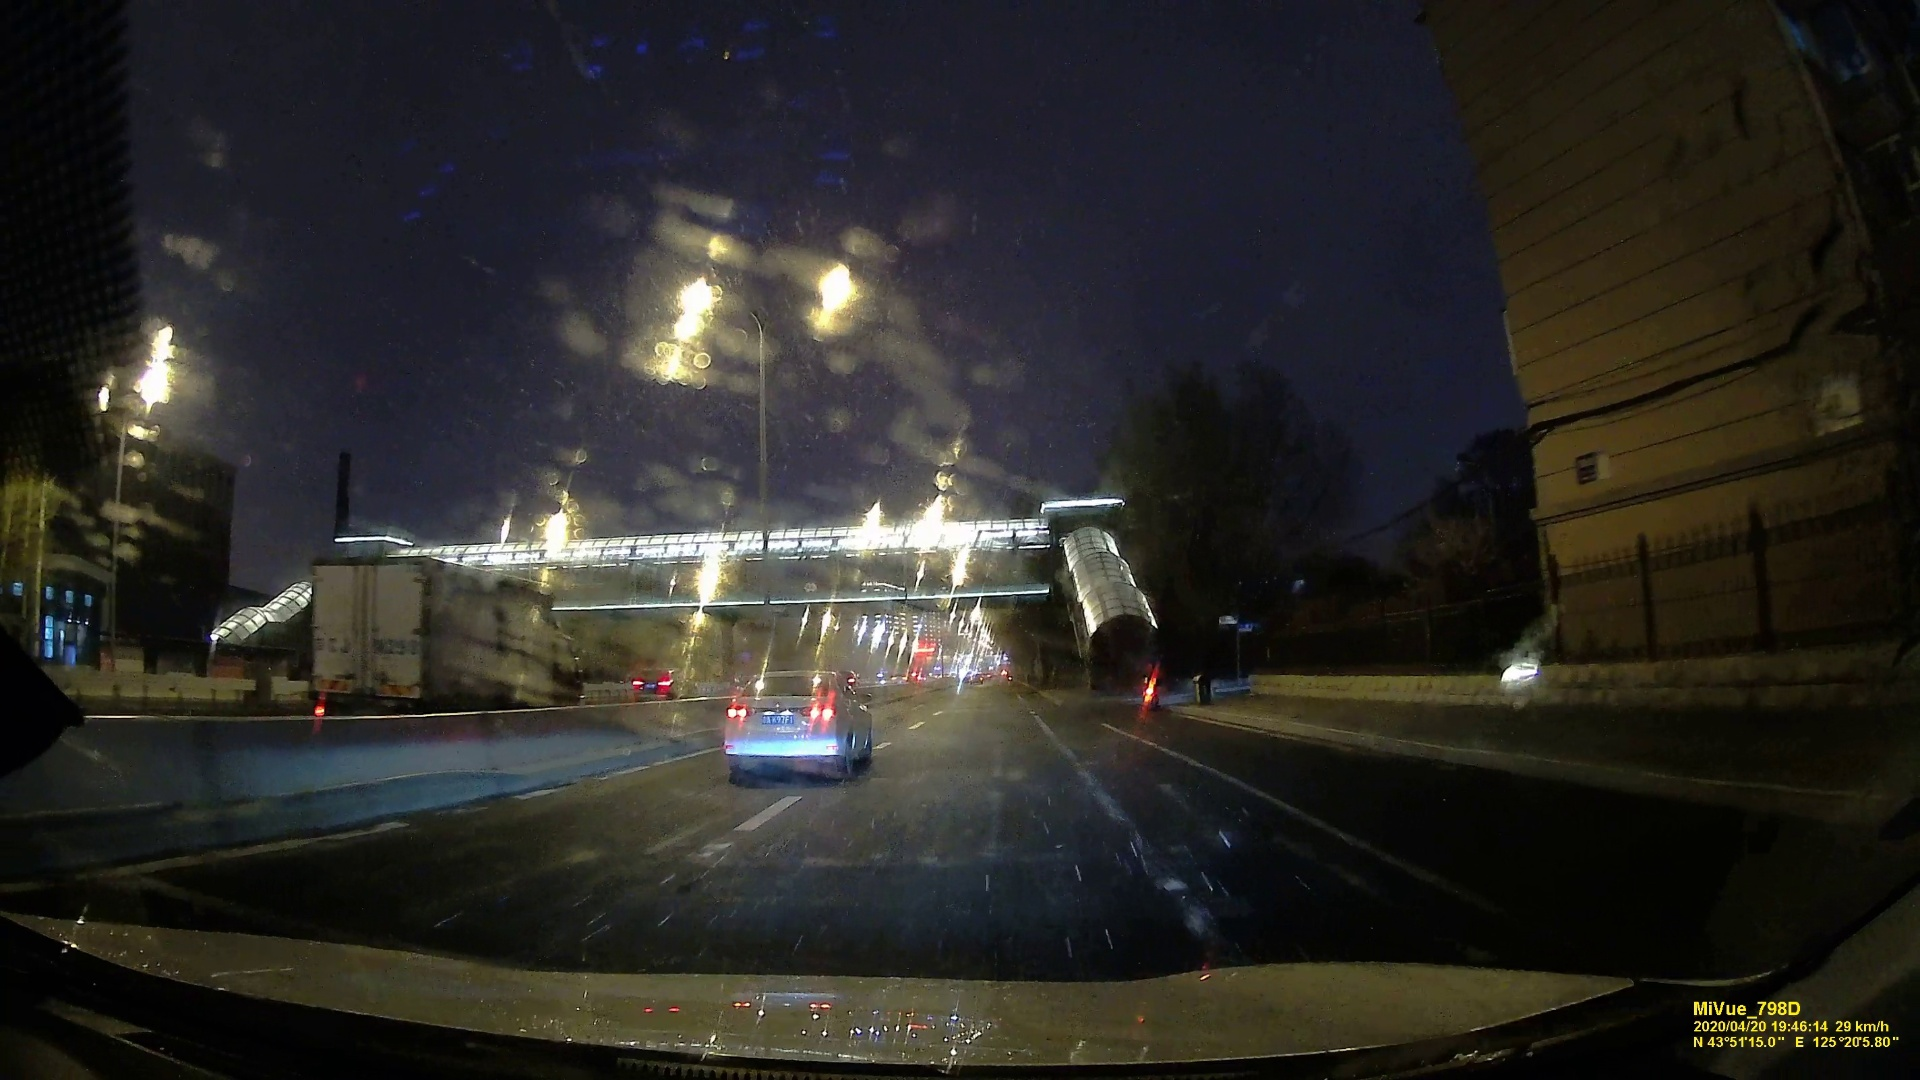truck: (305, 556, 585, 707)
vehicle: (720, 670, 872, 785), (626, 665, 698, 699)
